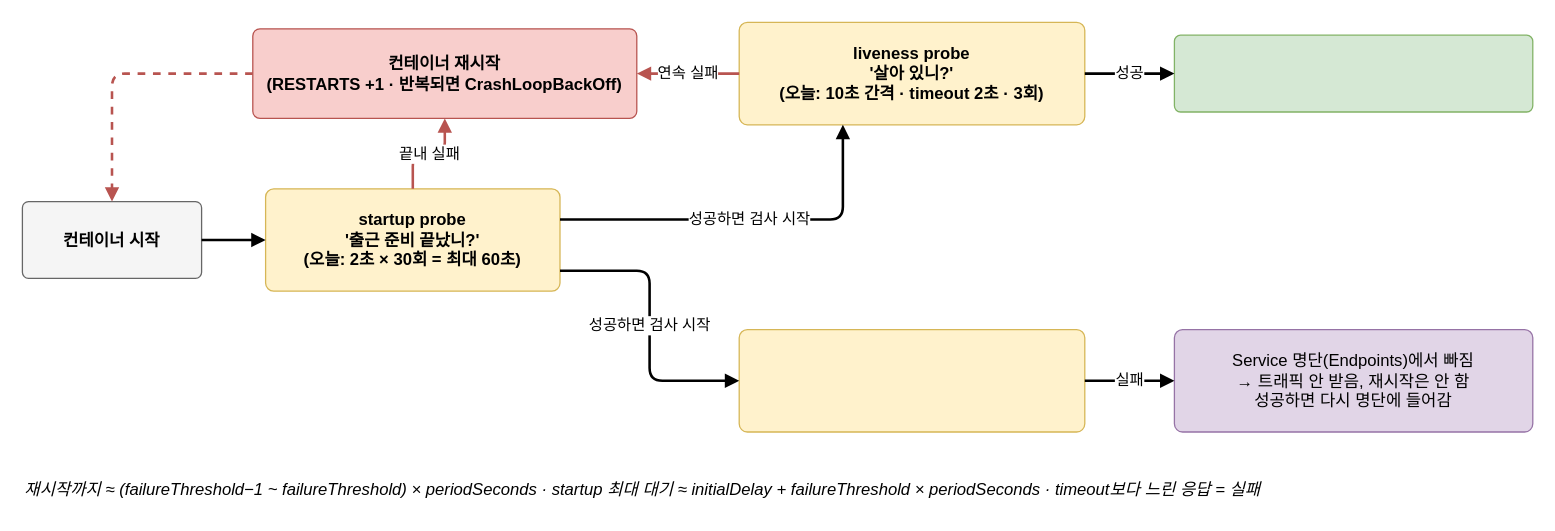
This 1555x531 diagram has some shape labels left out. The shapes that lost their labels are listed below. From the top down, each one's centre as x and y in pixels, then its label:
At point 1353,73: "정상 — 계속 반복 검사".
At point 911,380: "readiness probe '손님 받을 준비 됐니?' (오늘: 5초 간격 · 2회)".
